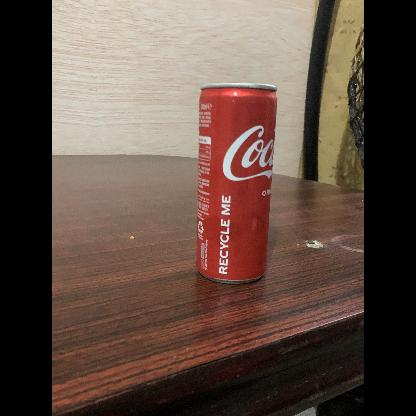Tin_Can: (188, 72, 284, 294)
